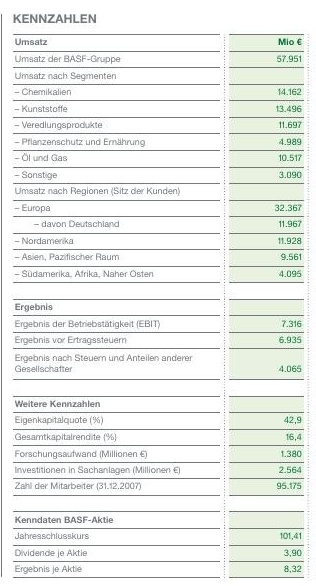table: (0, 0, 316, 586)
